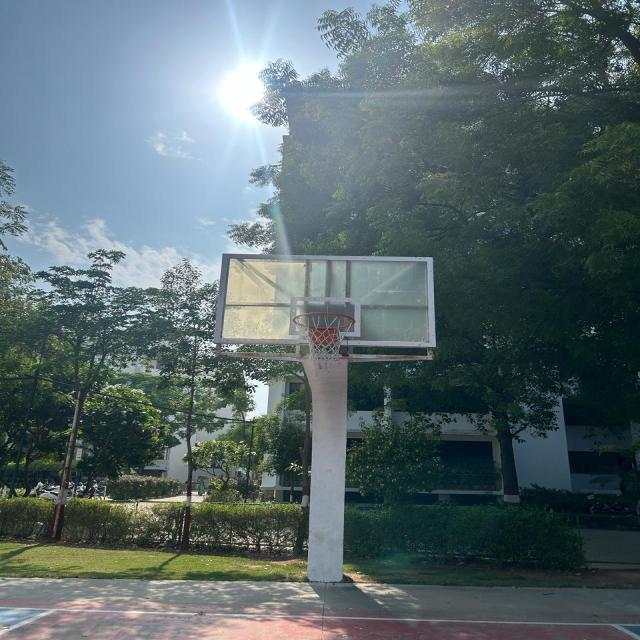hoop: (277, 296, 381, 370)
